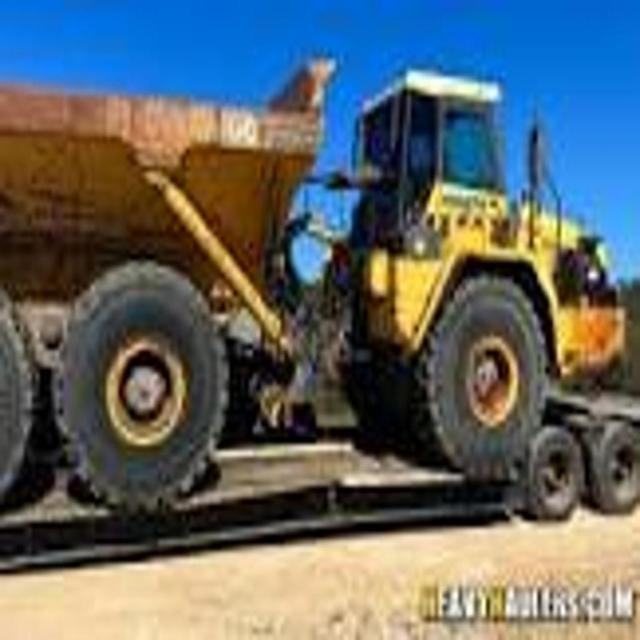dump_truck: (0, 48, 621, 527)
